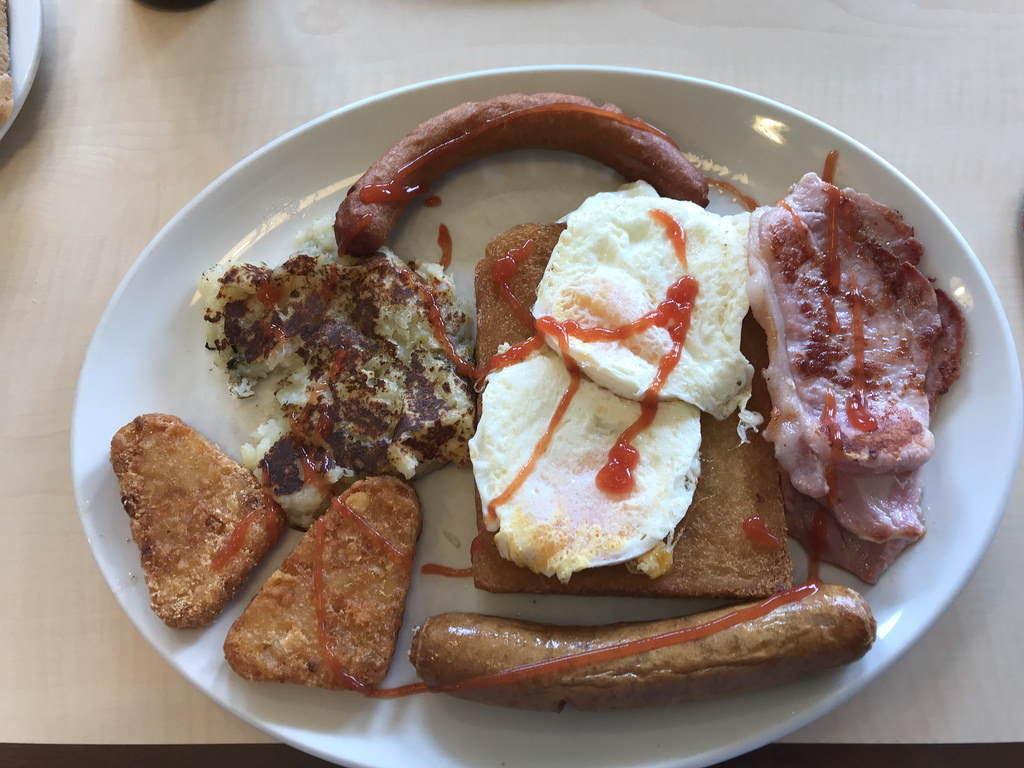fried egg: (483, 342, 696, 571), (568, 191, 761, 413)
slice of bread: (468, 217, 803, 607)
